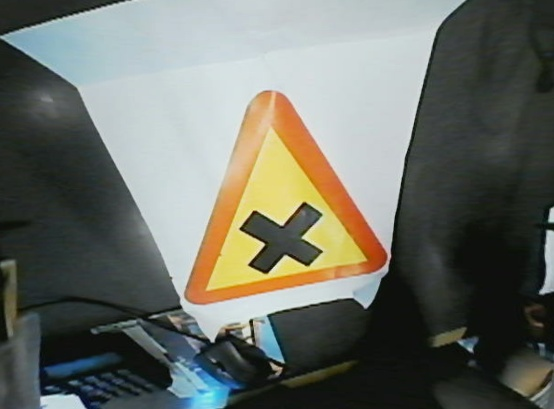junction: (161, 84, 408, 316)
